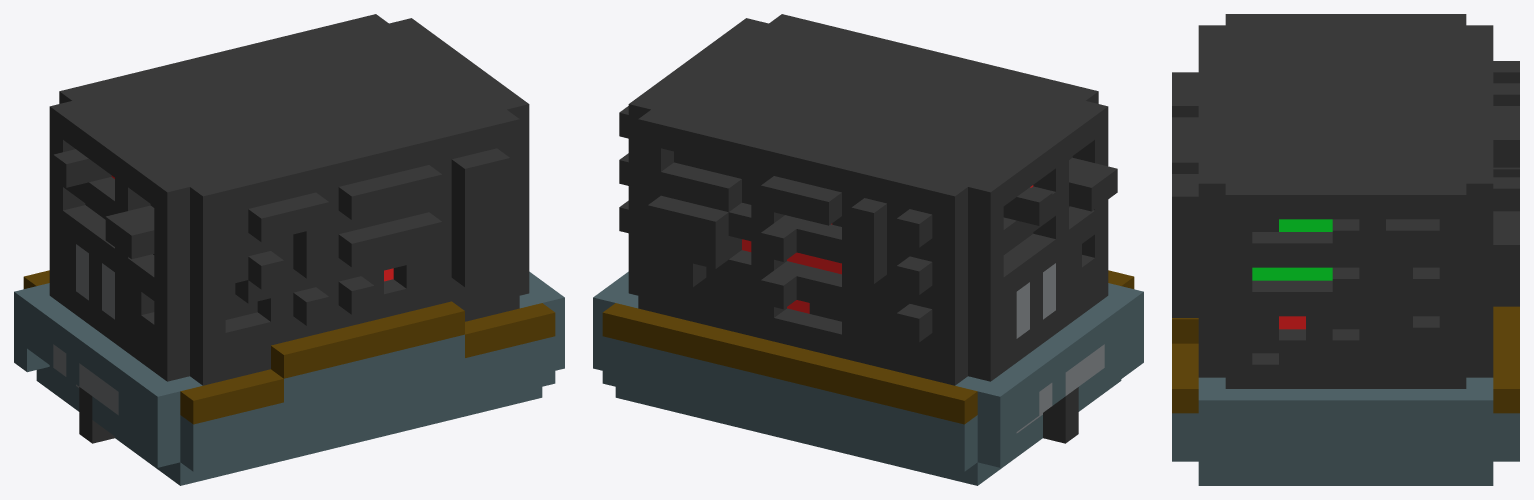
Rendered from Body-12.obj.
3 views of the same model, side by side, from view 1: azimuth 30°, elevation 25°; view 2: azimuth 150°, elevation 25°; view 3: azimuth 270°, elevation 25° (orthographic). The views are drawn at different scales.
Size of the model in its own units: 1.8 by 1.2 by 1.3.
1 material, 1 textured.
